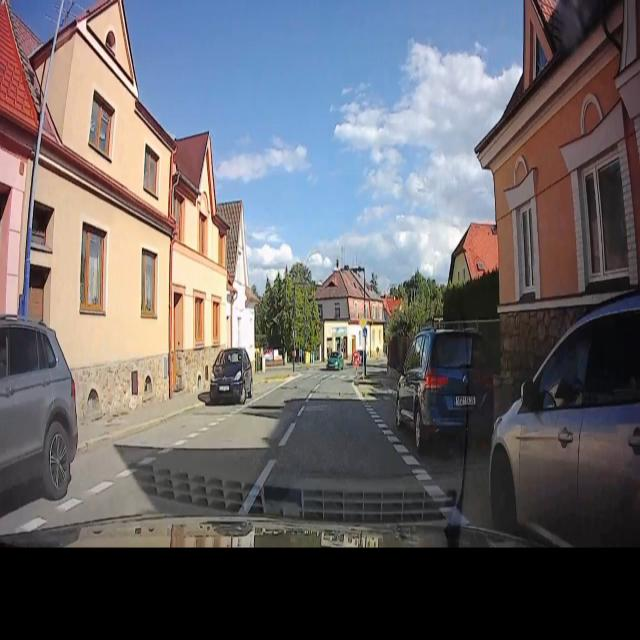Pedestrian crosswalk: (299, 369, 357, 384), (362, 328, 368, 337)
